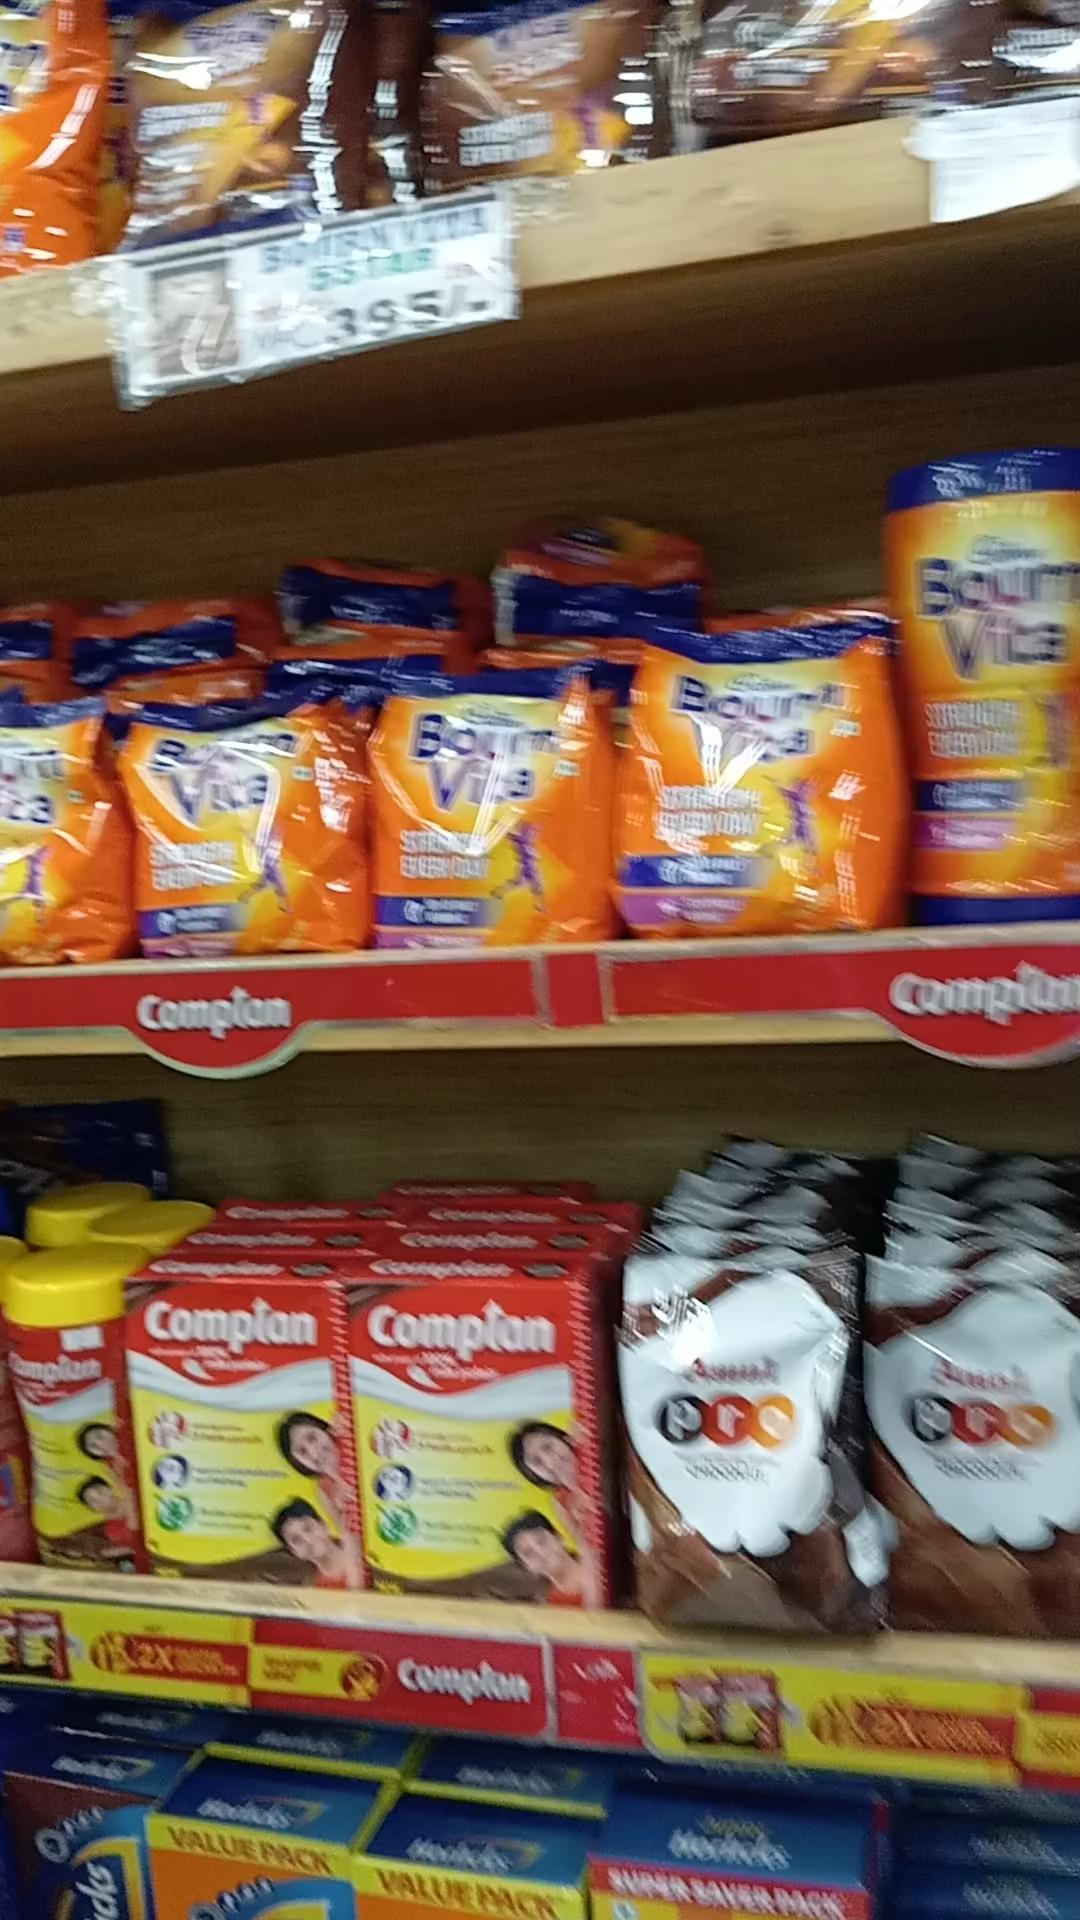BOURN_VITA_500_G_JAR: (919, 435, 1080, 914)
BOURN_VITA_500_G_POUCH: (628, 629, 899, 959), (373, 653, 597, 952), (125, 684, 352, 953)
COMPLAN_CHOCOLATE_500_GMS_PACK: (363, 1269, 597, 1602), (137, 1280, 342, 1585)
HORLICK_CHOCOLATE_500_G_JAR: (13, 1263, 127, 1584)
